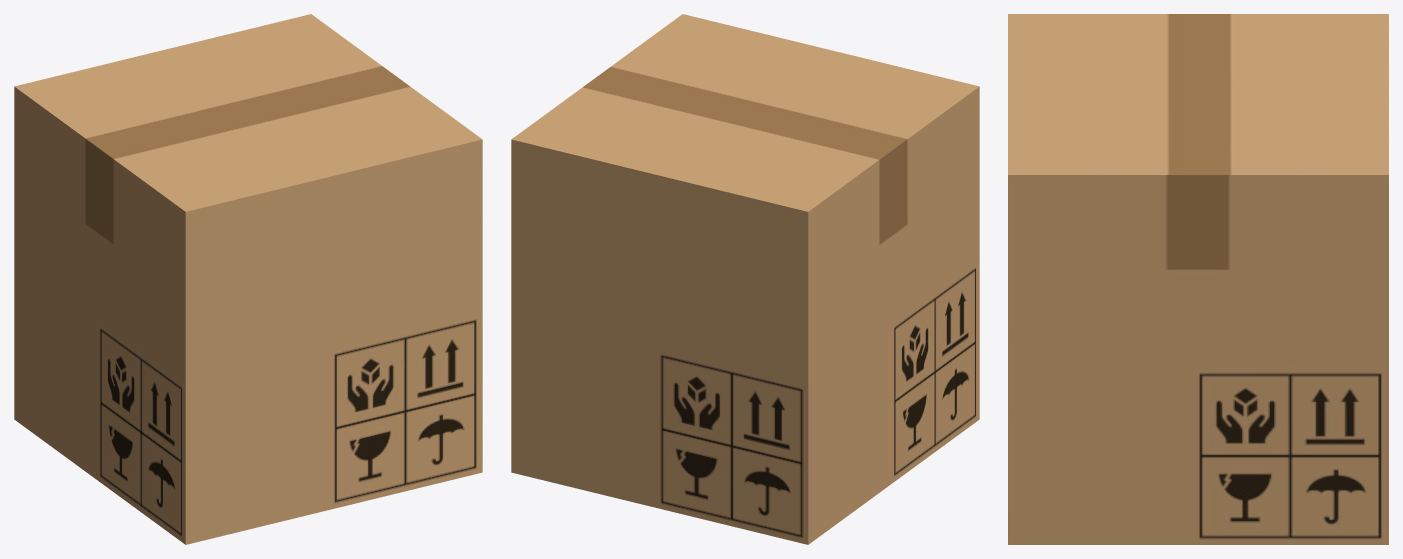
3 renders of one model, left to right at view 1: azimuth 30°, elevation 25°; view 2: azimuth 150°, elevation 25°; view 3: azimuth 270°, elevation 25°, orthographic. The views are drawn at different scales.
Visible parts, largest first — view 1: BoxesOBJ.001; view 2: BoxesOBJ.001; view 3: BoxesOBJ.001.
Boxes of the visible parts, left/top/right/bottom form: BoxesOBJ.001: left=14, top=14, right=482, bottom=544; BoxesOBJ.001: left=511, top=14, right=979, bottom=544; BoxesOBJ.001: left=1008, top=14, right=1388, bottom=544.
Bounding box in the file's own units: 0.6 × 0.6431 × 0.6.
Materials: 1 (1 with a texture image).
